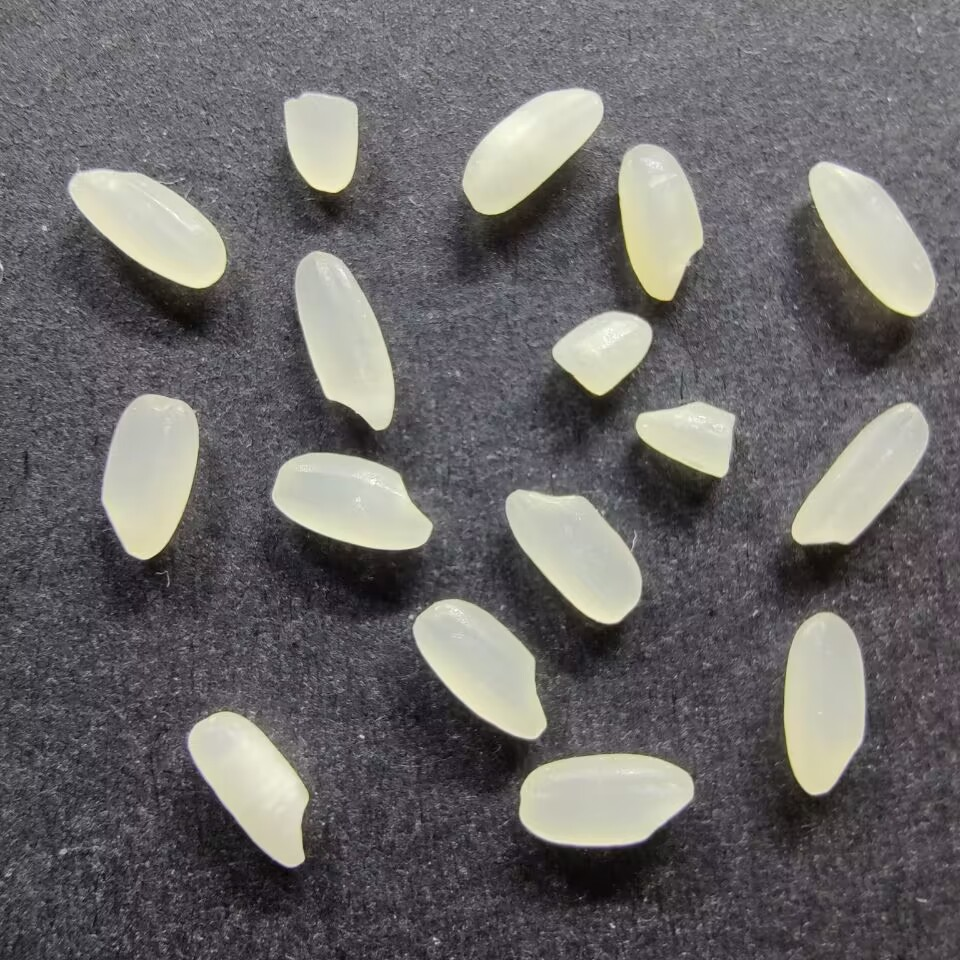broken: (548, 310, 654, 399), (280, 92, 363, 195), (632, 400, 739, 479)
rice: (790, 400, 932, 547), (806, 159, 938, 316), (185, 710, 312, 873), (411, 597, 549, 742), (65, 167, 226, 290), (292, 248, 398, 432), (503, 488, 644, 625), (460, 86, 605, 217), (97, 391, 201, 563), (516, 751, 695, 849), (270, 450, 433, 552), (781, 610, 867, 796), (615, 142, 704, 302)
